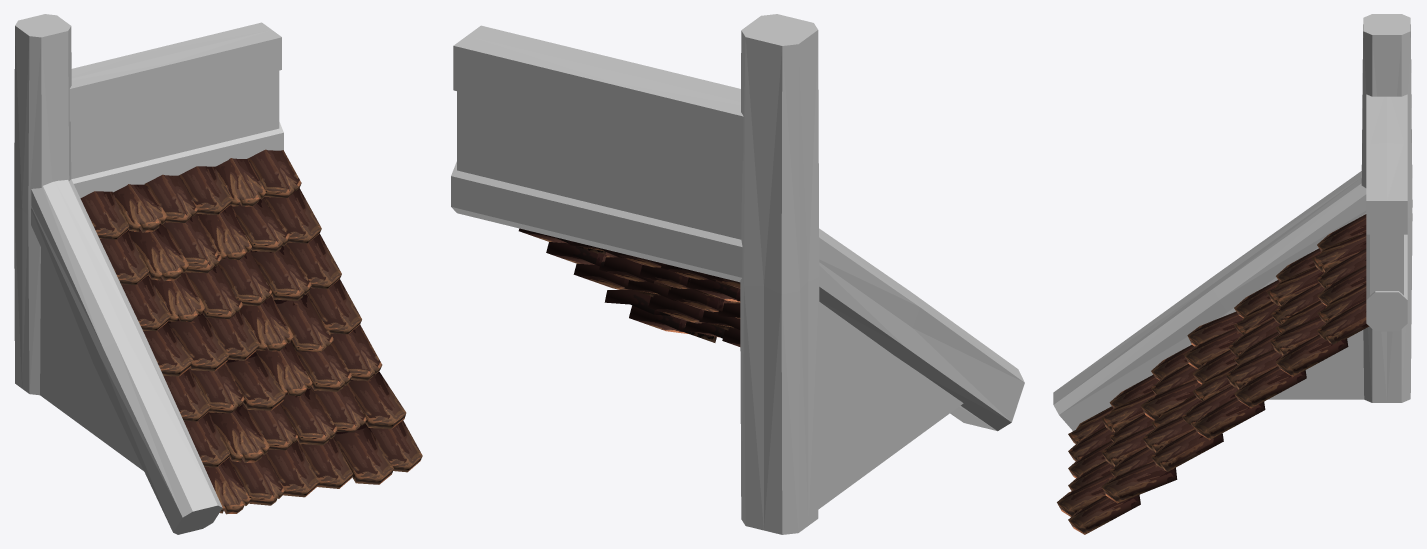
Rendered from VV-RoofTile5.fbx.
3 views of the same model, side by side, from view 1: azimuth 30°, elevation 25°; view 2: azimuth 150°, elevation 25°; view 3: azimuth 270°, elevation 25° (orthographic). The views are drawn at different scales.
Parts seen in each view (by area): view 1: RoofTile.5; view 2: RoofTile.5; view 3: RoofTile.5.
Boxes of the visible parts, x1,y1,x2,y2 form: RoofTile.5: (14, 14, 422, 534); RoofTile.5: (451, 14, 1024, 534); RoofTile.5: (1053, 14, 1412, 534).
Size of the model in its own units: 2.21 by 3.34 by 2.65.
